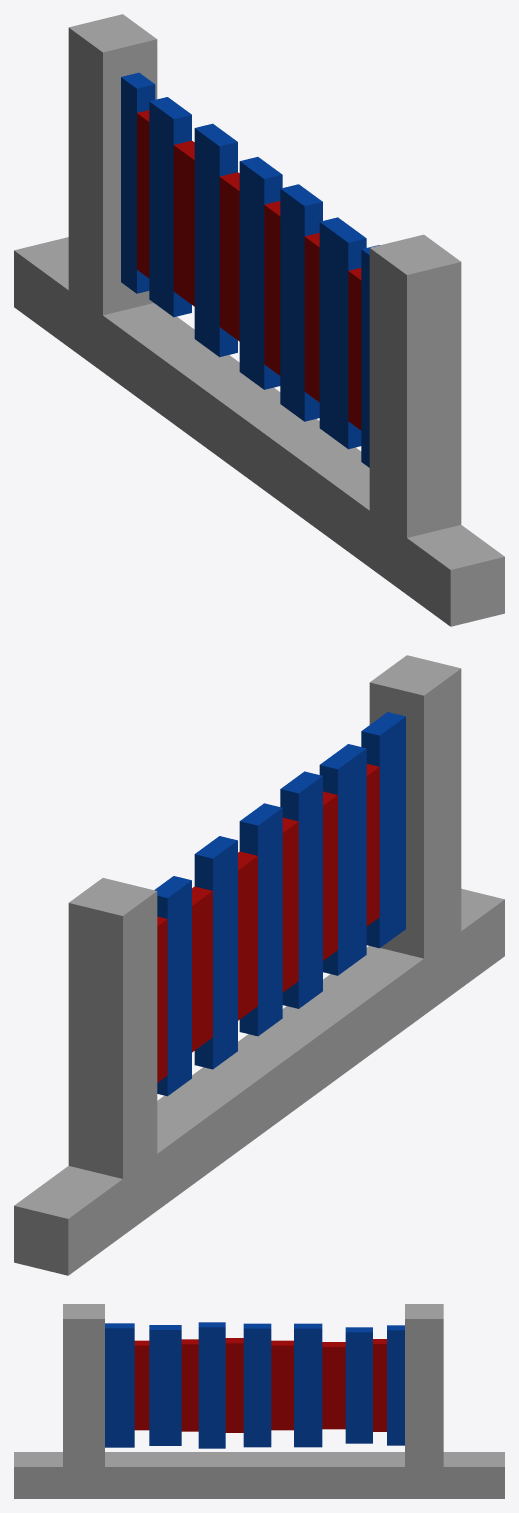
File: Baricade.fbx
The picture shows the model from 3 angles, top to bottom: view 1: azimuth 30°, elevation 25°; view 2: azimuth 150°, elevation 25°; view 3: azimuth 270°, elevation 25°; orthographic projection. The views are drawn at different scales.
Parts seen in each view (by area): view 1: pCube1; view 2: pCube1; view 3: pCube1.
Boxes of the visible parts, x1,y1,x2,y2 form: pCube1: [14, 14, 504, 626]; pCube1: [14, 655, 504, 1275]; pCube1: [14, 1304, 504, 1498].
Bounding box in the file's own units: 1 × 5.63 × 13.92.
